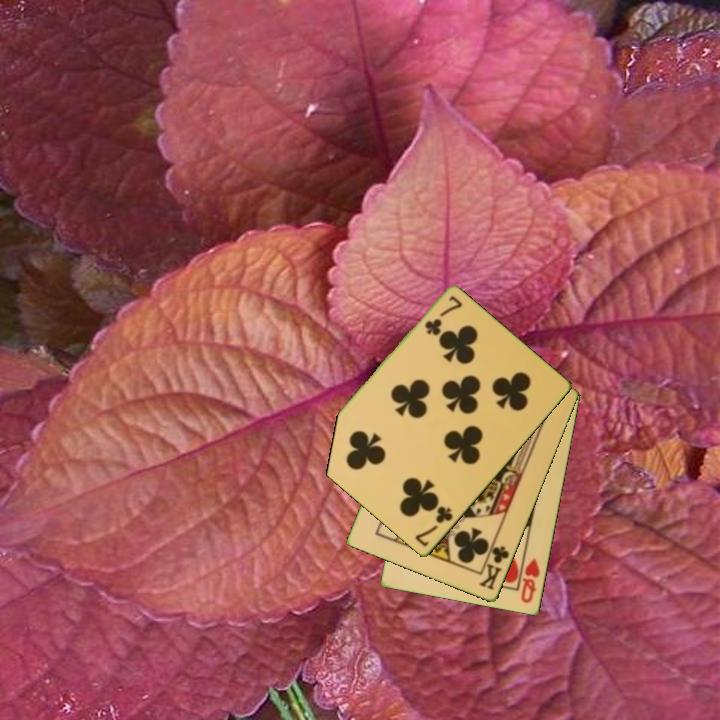7c: (411, 503, 456, 550), (421, 292, 465, 339)
Kc: (476, 537, 512, 594)
Qh: (518, 555, 543, 606)
